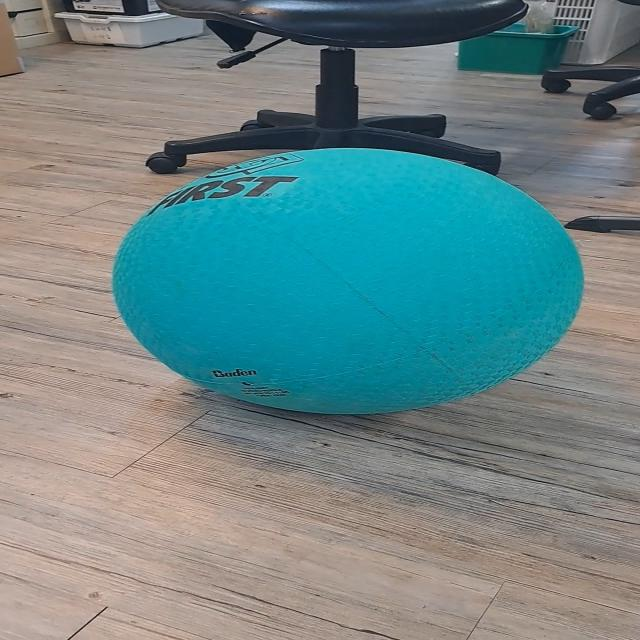ALGAE: (108, 146, 586, 416)
